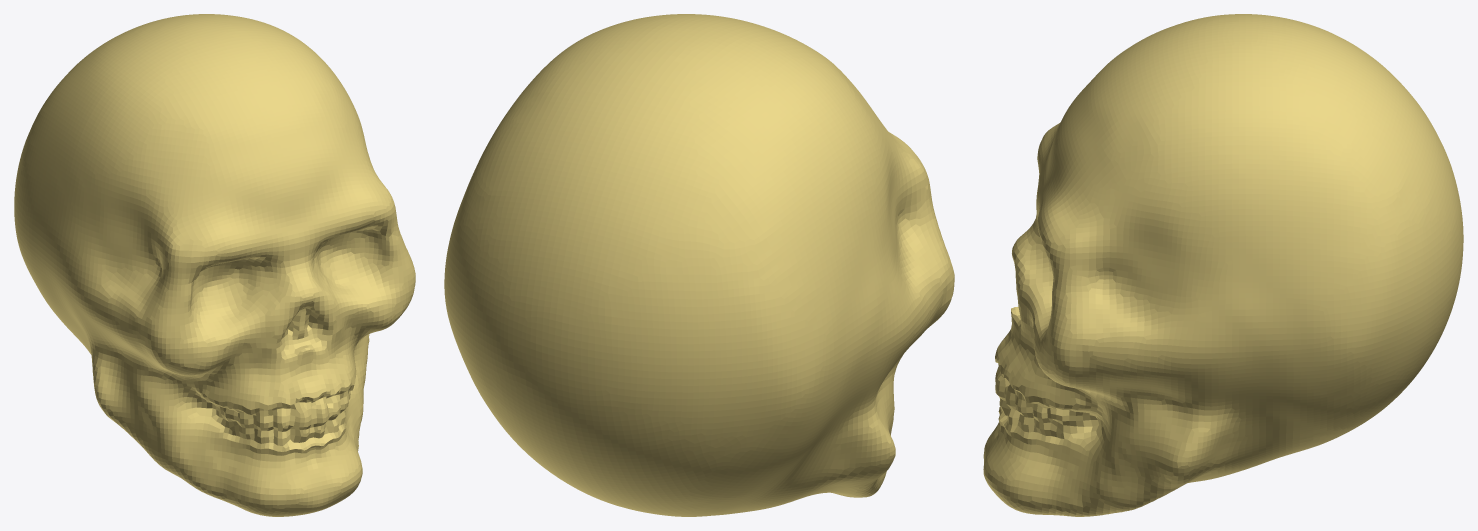
File: skellyOranges.glb
The picture shows the model from 3 angles, left to right: view 1: azimuth 30°, elevation 25°; view 2: azimuth 150°, elevation 25°; view 3: azimuth 270°, elevation 25°; orthographic projection. The views are drawn at different scales.
Parts seen in each view (by area): view 1: skull; view 2: skull; view 3: skull.
Part boxes in pixels (<box>): skull: <box>14,14,415,516</box>; skull: <box>444,14,954,516</box>; skull: <box>983,14,1463,516</box>.
Size of the model in its own units: 1.71 by 2.24 by 2.12.
